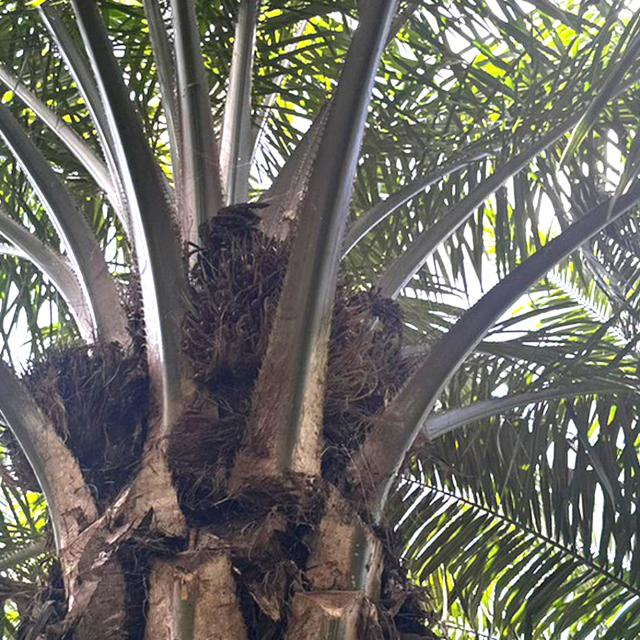ripe: (178, 230, 314, 375)
